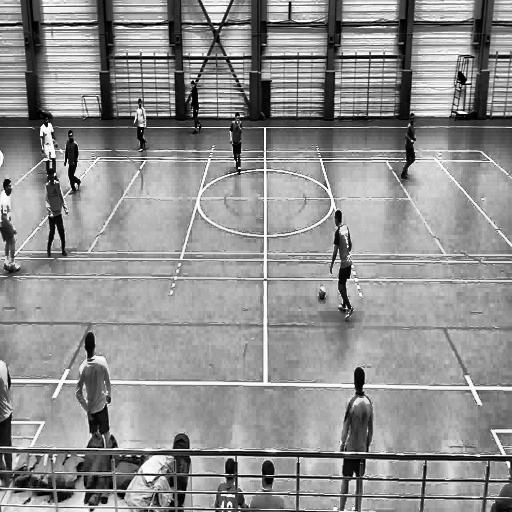ball: (317, 282, 327, 302)
player: (335, 363, 375, 506), (75, 328, 114, 442), (329, 208, 355, 323), (44, 172, 73, 259), (0, 178, 22, 277), (38, 114, 60, 182), (64, 131, 86, 196), (400, 112, 417, 183), (229, 111, 244, 178), (188, 77, 204, 137), (132, 97, 149, 153)
